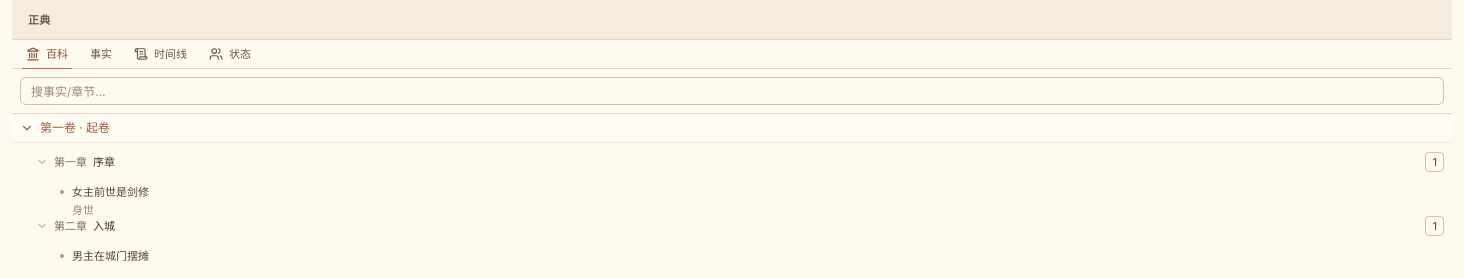
Scenario: FactsPanel 正典树 › collapses a chapter to hide its facts
Click the text "序章" at [104, 162], box [93,155,115,169]
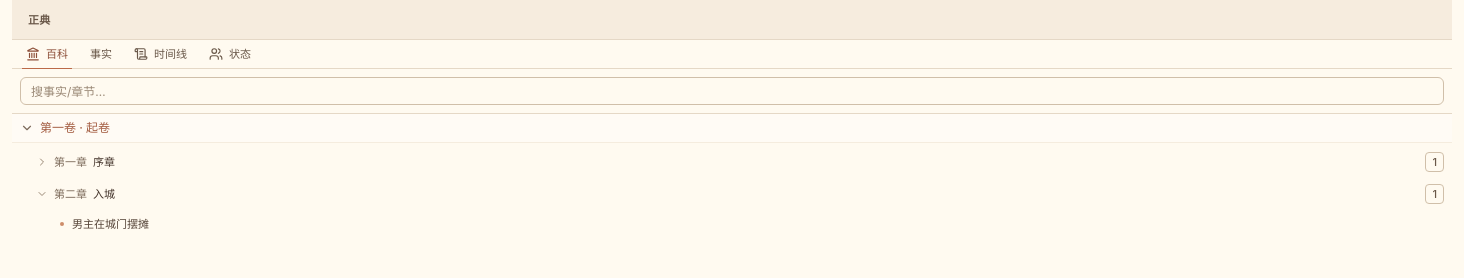
Expected: the text "男主在城门摆摊" is shown, [72,217,149,231]
Result: the text "女主前世是剑修" is gone
Click the text "序章" at [104, 162], box [93,155,115,169]
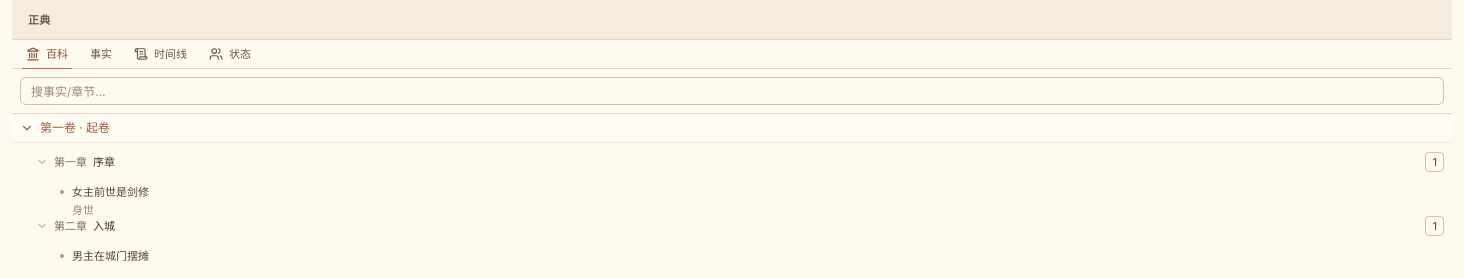
Result: the text "女主前世是剑修" is shown at [72,185,149,199]
